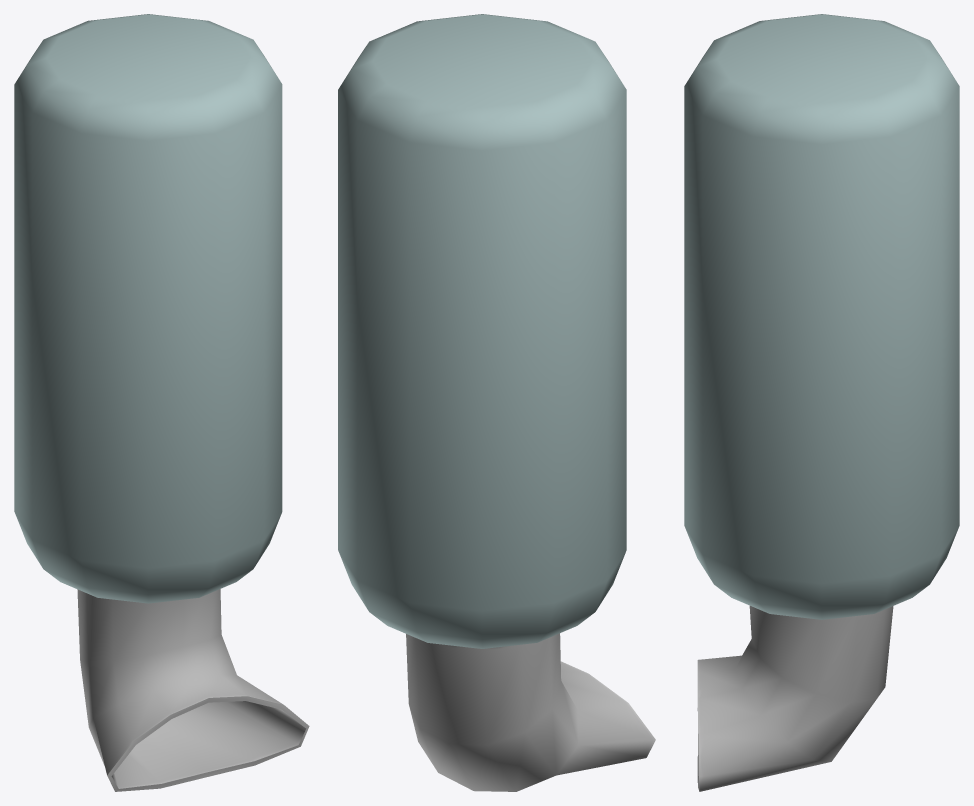
Rendered from Dispenser.fbx.
3 views of the same model, side by side, from view 1: azimuth 30°, elevation 25°; view 2: azimuth 150°, elevation 25°; view 3: azimuth 270°, elevation 25° (orthographic). The views are drawn at different scales.
Parts seen in each view (by area): view 1: Dispenser; view 2: Dispenser; view 3: Dispenser.
Part boxes in pixels (box(x1,y1,x2,y2)): Dispenser: box(14, 14, 309, 791); Dispenser: box(338, 14, 655, 791); Dispenser: box(684, 14, 959, 791).
Size of the model in its own units: 12 by 33.39 by 12.
